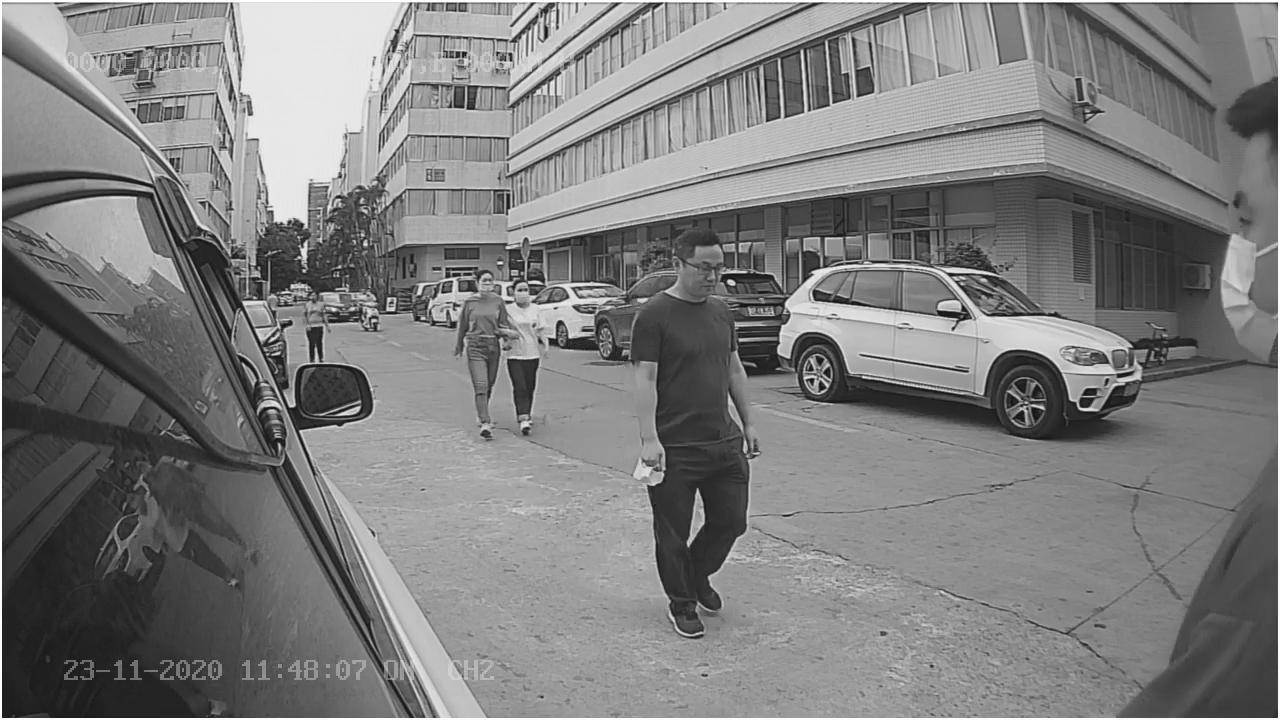person: (620, 230, 761, 633), (456, 262, 511, 443)
